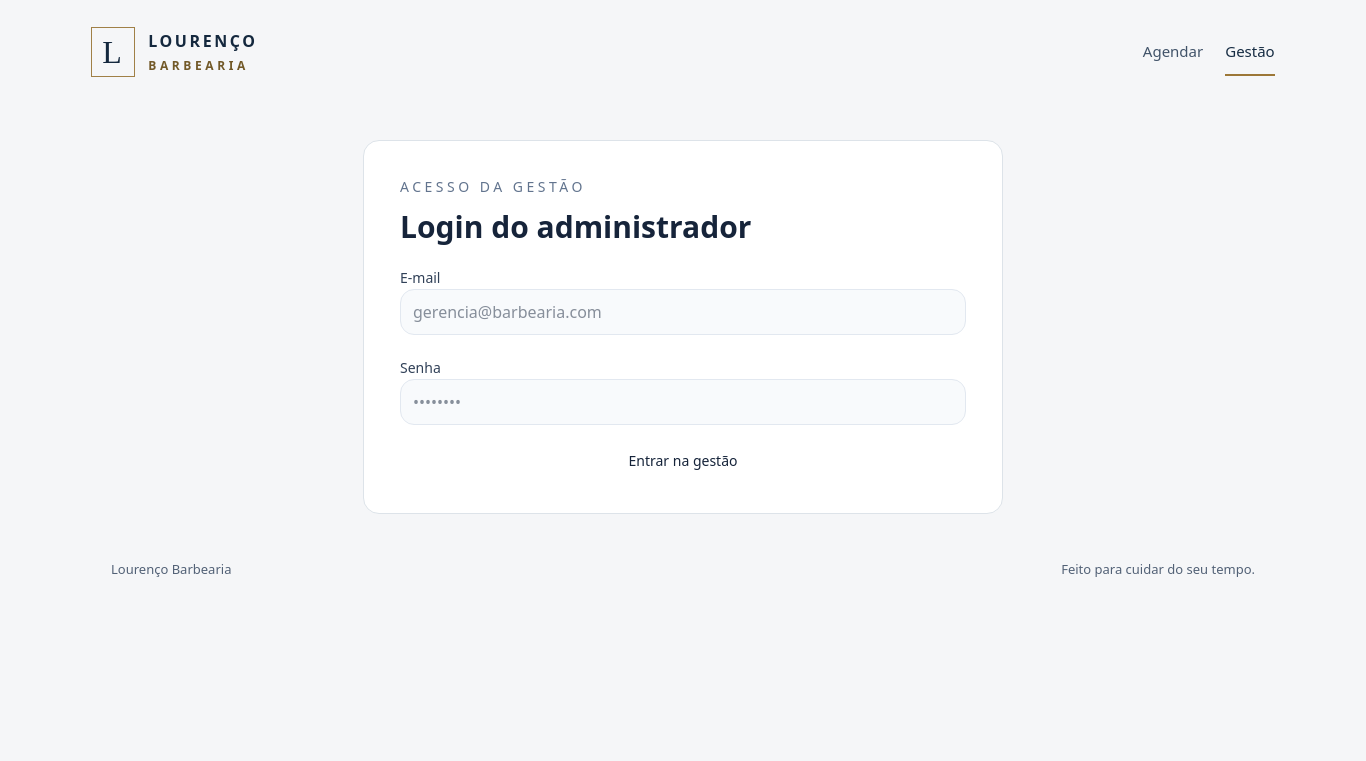
Test: logs in and logs out through the API, updating the visible screen
The width and height of the screenshot is (1366, 761).
Expected: the heading "Login do administrador" is shown, [400,206,751,247]
Step 1. Type "admin@example.test" into the field labelled "E-mail" → x=683, y=312, box [400,289,966,335]
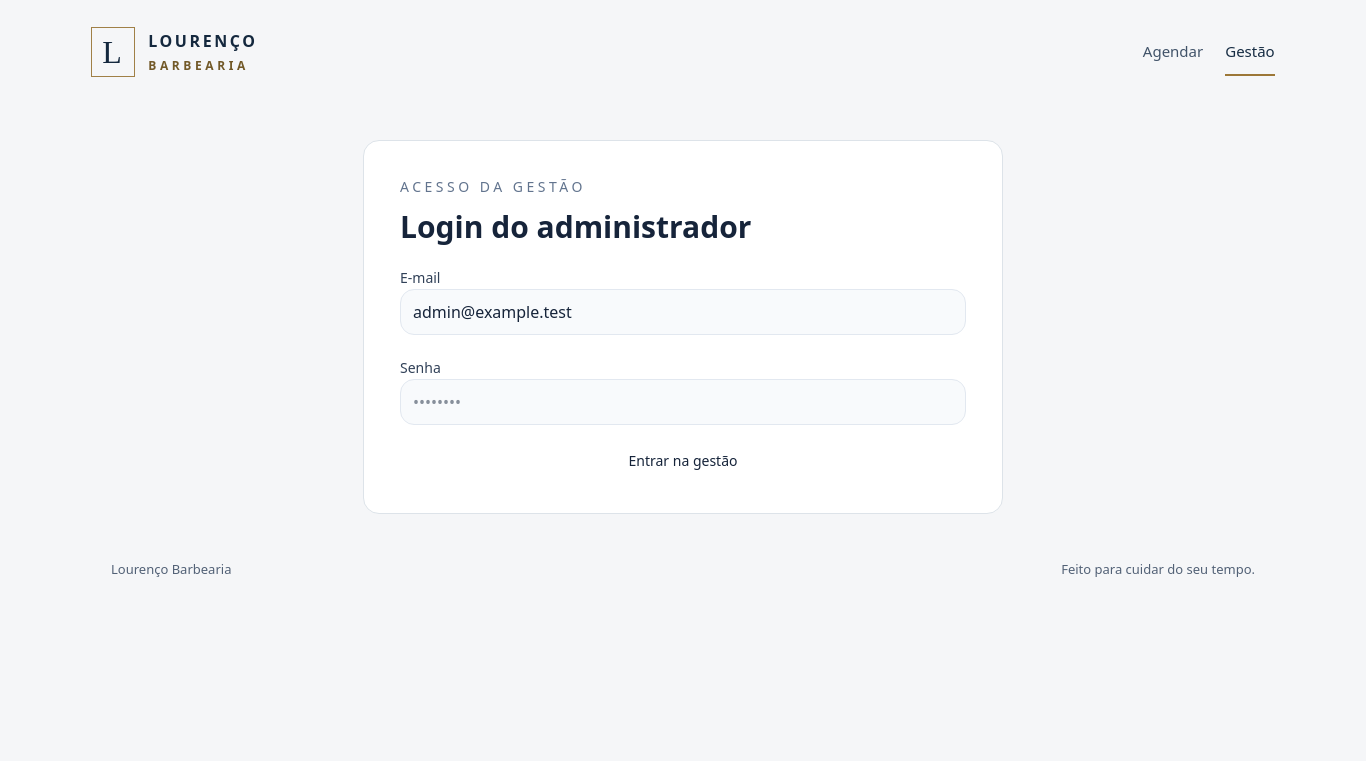
Step 2. Type "SenhaDeTeste123" into the password field labelled "Senha" → x=683, y=402, box [400,379,966,425]
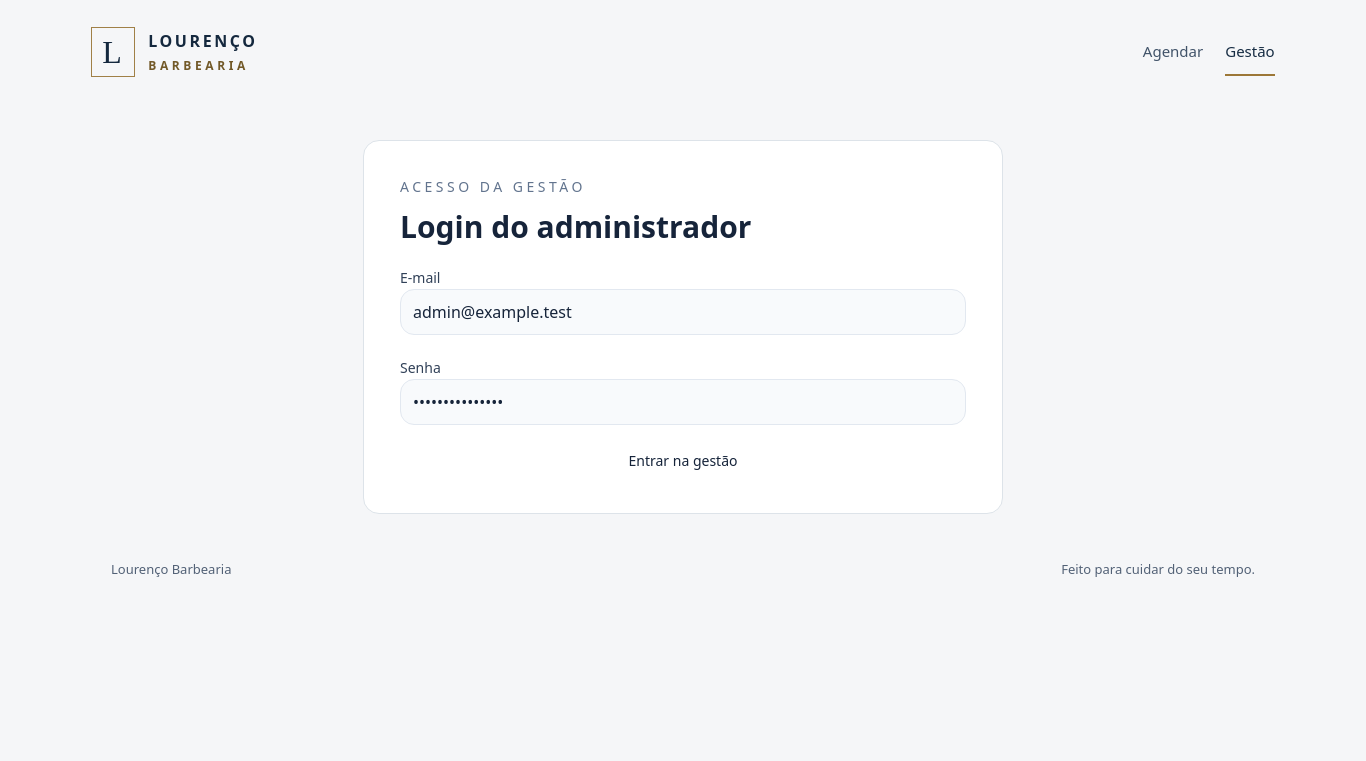
Step 3. Submit the form "Login do administrador", box [400,177,966,477]
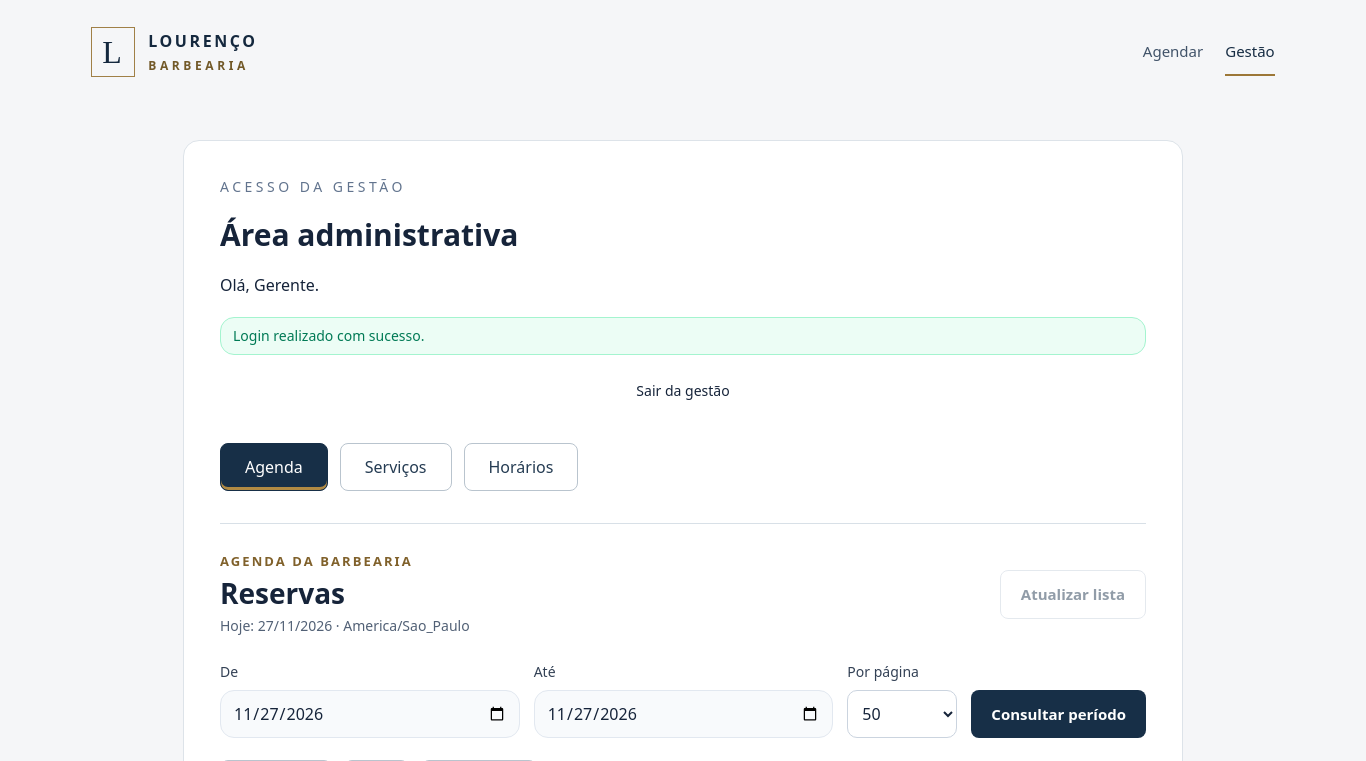
Now the heading "Área administrativa" is shown, box [220,214,518,255]
Now the label labelled "Senha" is gone
Step 4. Click the button "Sair da gestão" → x=683, y=391, box [220,375,1146,407]
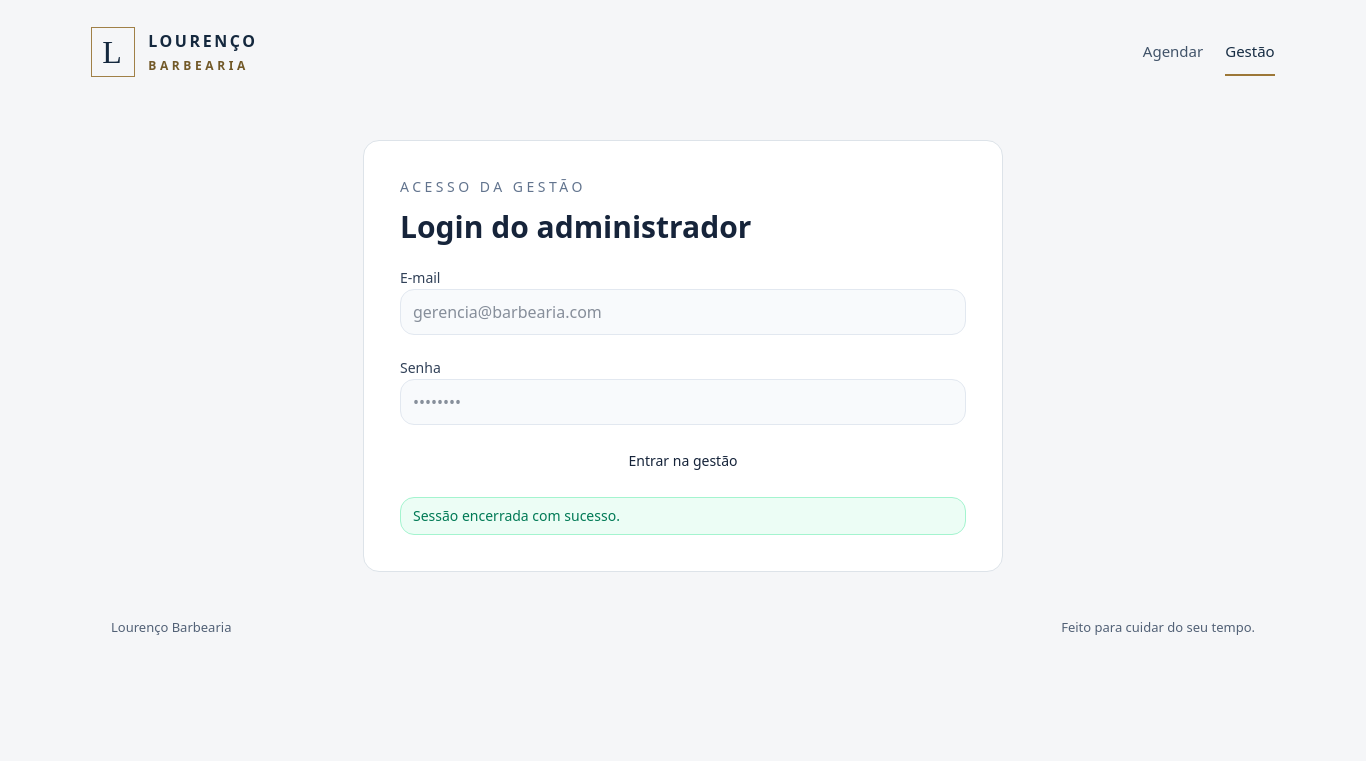
Now the heading "Login do administrador" is shown, box [400,206,751,247]
Now the message reads "Sessão encerrada com sucesso.", box [413,506,620,525]
